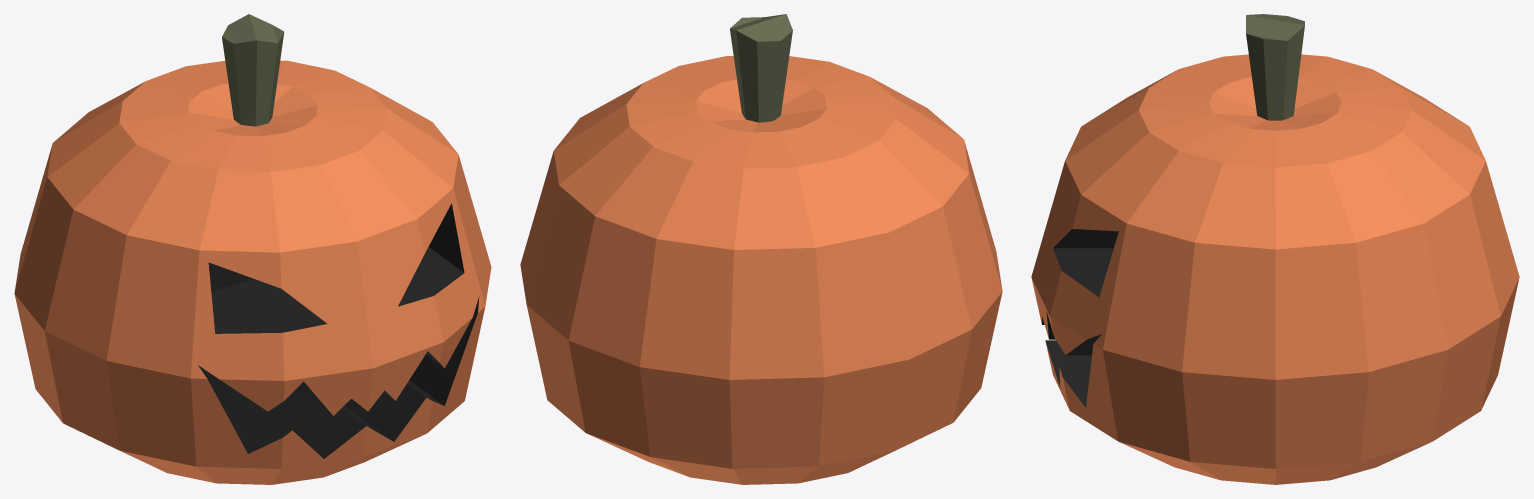
File: pumpkin.fbx
3 renders of one model, left to right at view 1: azimuth 30°, elevation 25°; view 2: azimuth 150°, elevation 25°; view 3: azimuth 270°, elevation 25°, orthographic.
Parts seen in each view (by area): view 1: pumpkin.001; view 2: pumpkin.001; view 3: pumpkin.001.
Part boxes in pixels (left/top/right/bottom): pumpkin.001: left=14, top=14, right=491, bottom=484; pumpkin.001: left=520, top=14, right=1002, bottom=484; pumpkin.001: left=1031, top=14, right=1519, bottom=484.
Bounding box in the file's own units: 301 × 275 × 301.
